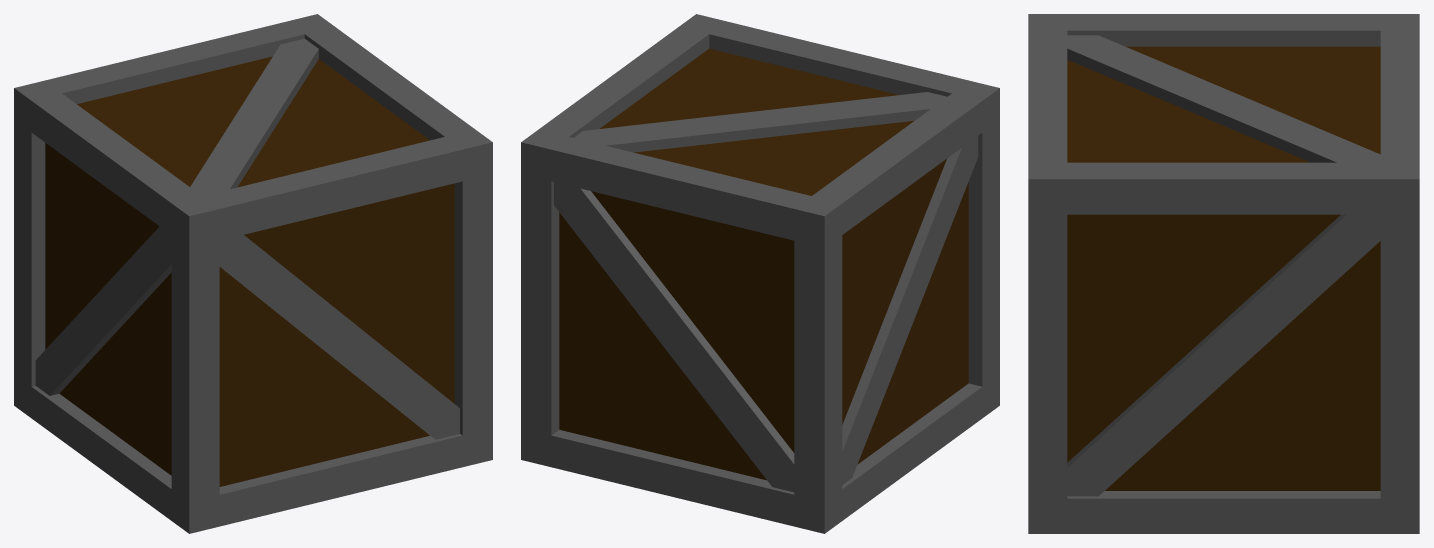
3 views of the same model, side by side, from view 1: azimuth 30°, elevation 25°; view 2: azimuth 150°, elevation 25°; view 3: azimuth 270°, elevation 25° (orthographic). The views are drawn at different scales.
Parts seen in each view (by area): view 1: Crate; view 2: Crate; view 3: Crate.
Boxes of the visible parts, x1,y1,x2,y2 form: Crate: (14, 14, 492, 533); Crate: (521, 14, 999, 533); Crate: (1028, 14, 1419, 533).
Size of the model in its own units: 1 by 1 by 1.
